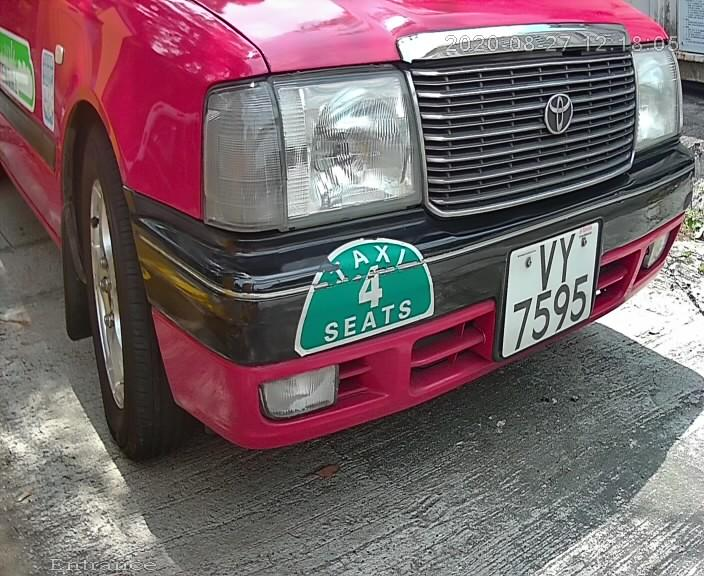License Plate: (479, 189, 615, 378)
